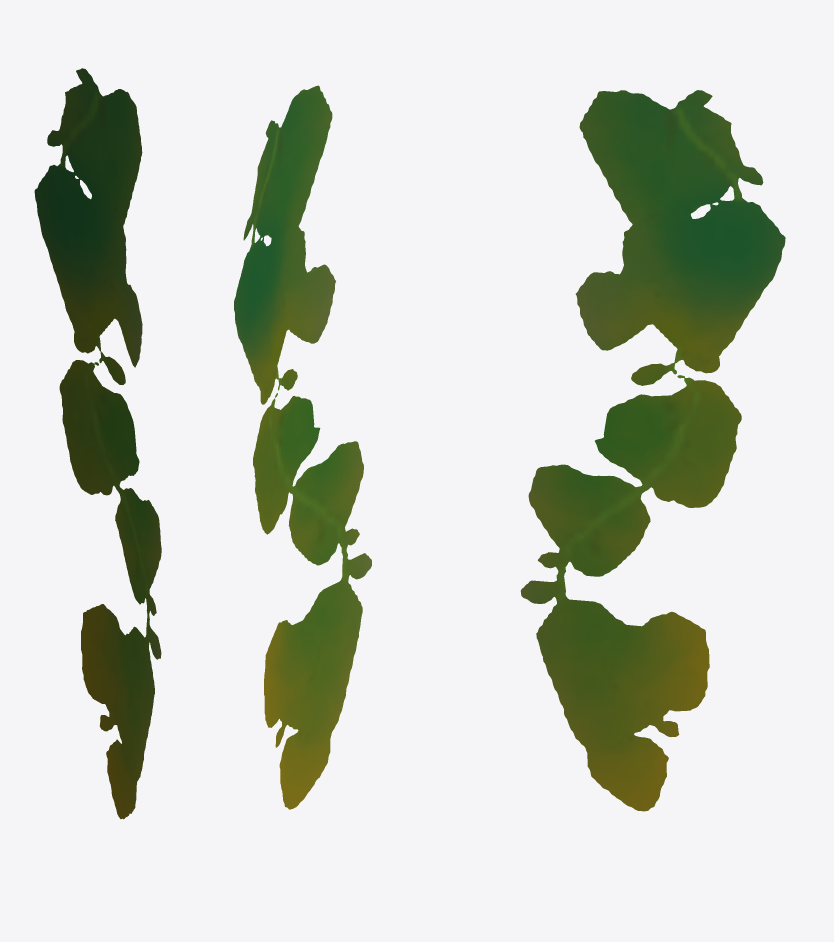
The model's file is Prop_DriedFlower_01.fbx.
The picture shows the model from 3 angles, left to right: view 1: azimuth 30°, elevation 25°; view 2: azimuth 150°, elevation 25°; view 3: azimuth 270°, elevation 25°; orthographic projection. The views are drawn at different scales.
Parts seen in each view (by area): view 1: pPlane47; view 2: pPlane47; view 3: pPlane47.
Part boxes in pixels (<box>): pPlane47: <box>34,68,161,819</box>; pPlane47: <box>234,85,371,809</box>; pPlane47: <box>520,90,785,811</box>.
Size of the model in its own units: 2.78 by 83.15 by 30.9.
